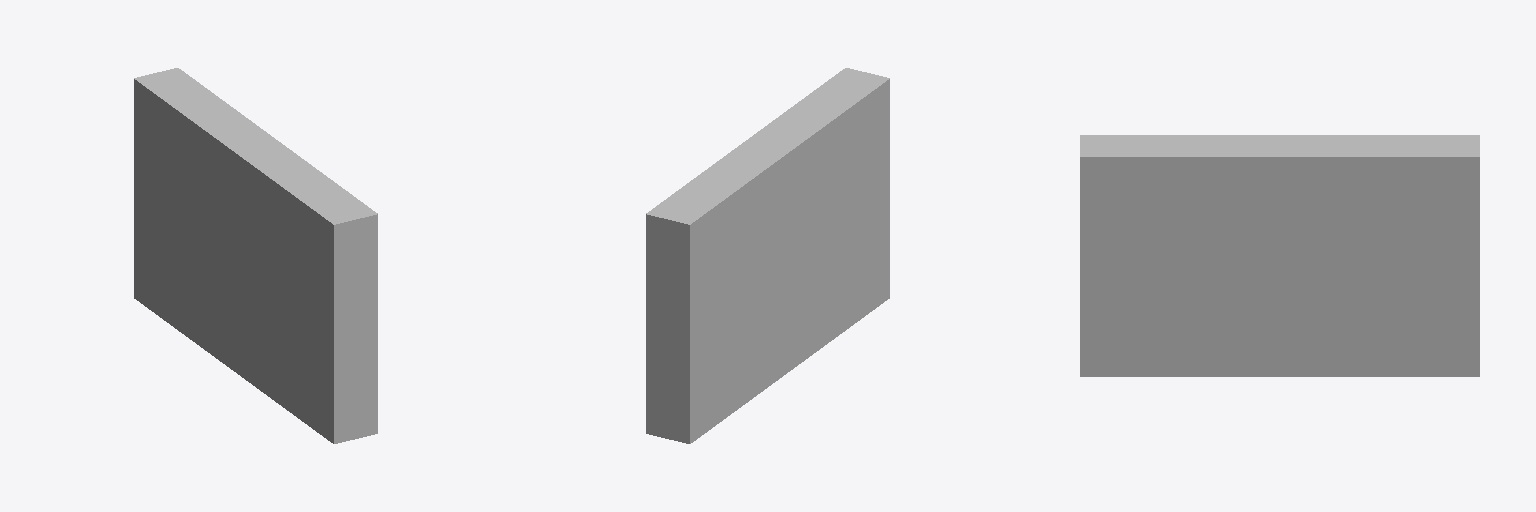
Rendered from Window.obj.
3 views of the same model, side by side, from view 1: azimuth 30°, elevation 25°; view 2: azimuth 150°, elevation 25°; view 3: azimuth 270°, elevation 25° (orthographic).
Parts seen in each view (by area): view 1: Cube; view 2: Cube; view 3: Cube.
Boxes of the visible parts, x1=… form: Cube: x1=134, y1=68, x2=377, y2=443; Cube: x1=646, y1=68, x2=889, y2=443; Cube: x1=1080, y1=135, x2=1479, y2=376.
Size of the model in its own units: 0.4502 by 2.12 by 3.51.